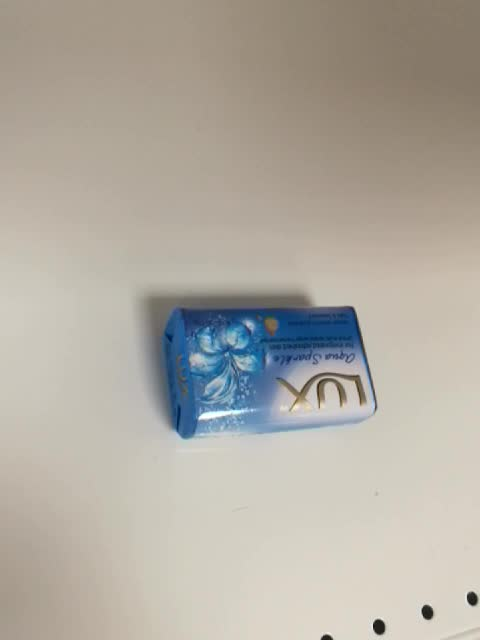soap: (157, 303, 380, 441)
